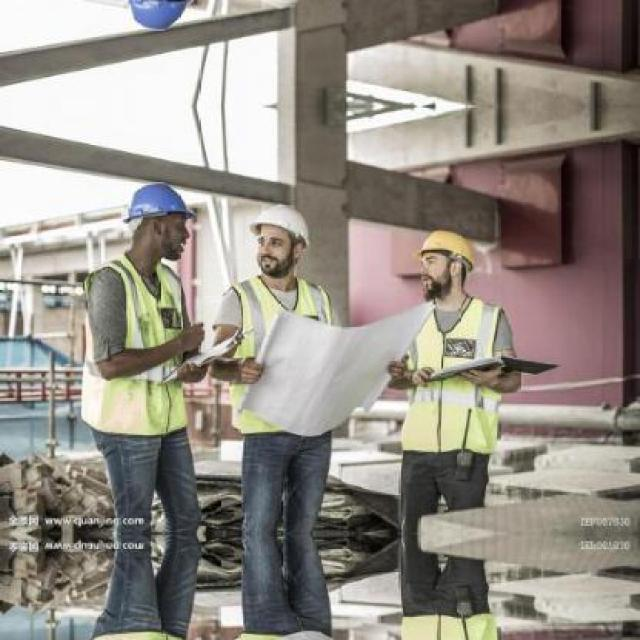helmet: (118, 174, 199, 262), (410, 223, 482, 294), (246, 201, 312, 276), (117, 0, 200, 39)
